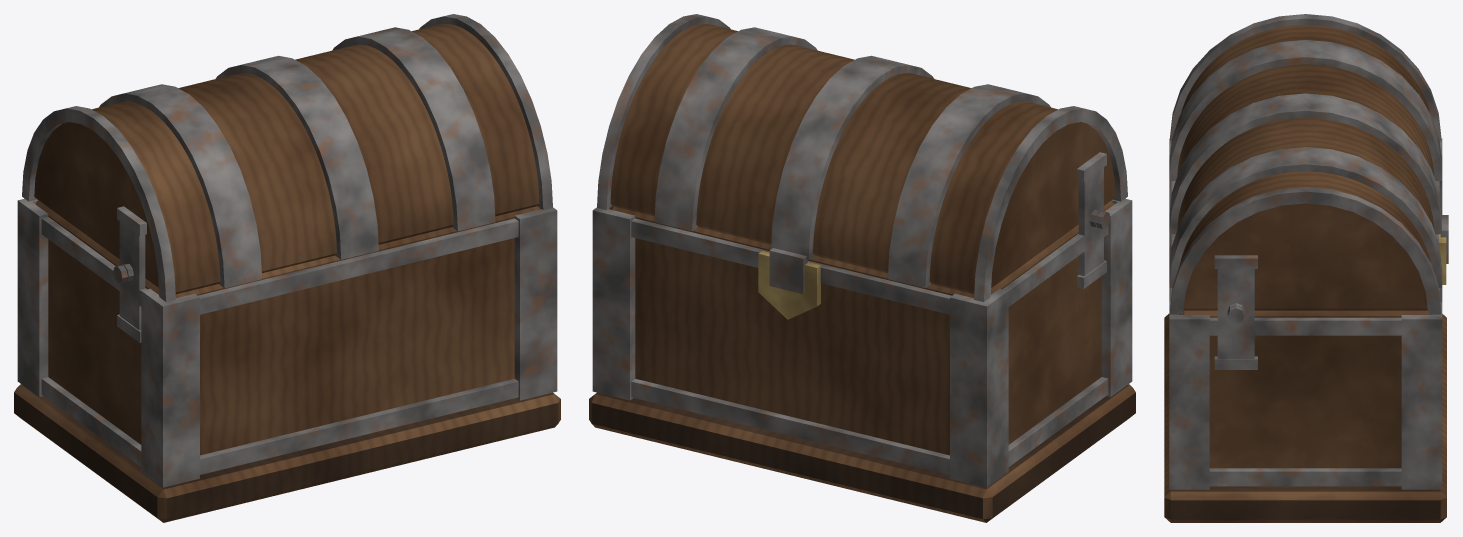
The picture shows the model from 3 angles, left to right: view 1: azimuth 30°, elevation 25°; view 2: azimuth 150°, elevation 25°; view 3: azimuth 270°, elevation 25°; orthographic projection. The views are drawn at different scales.
Parts seen in each view (by area): view 1: Chest_Low.001; view 2: Chest_Low.001; view 3: Chest_Low.001.
Boxes of the visible parts, box(x1,y1,x2,y2) form: Chest_Low.001: box(14, 14, 560, 522); Chest_Low.001: box(589, 14, 1135, 522); Chest_Low.001: box(1164, 14, 1448, 522).
Bounding box in the file's own units: 1.1 × 0.894 × 0.696.
Materials: 1 (1 with a texture image).
